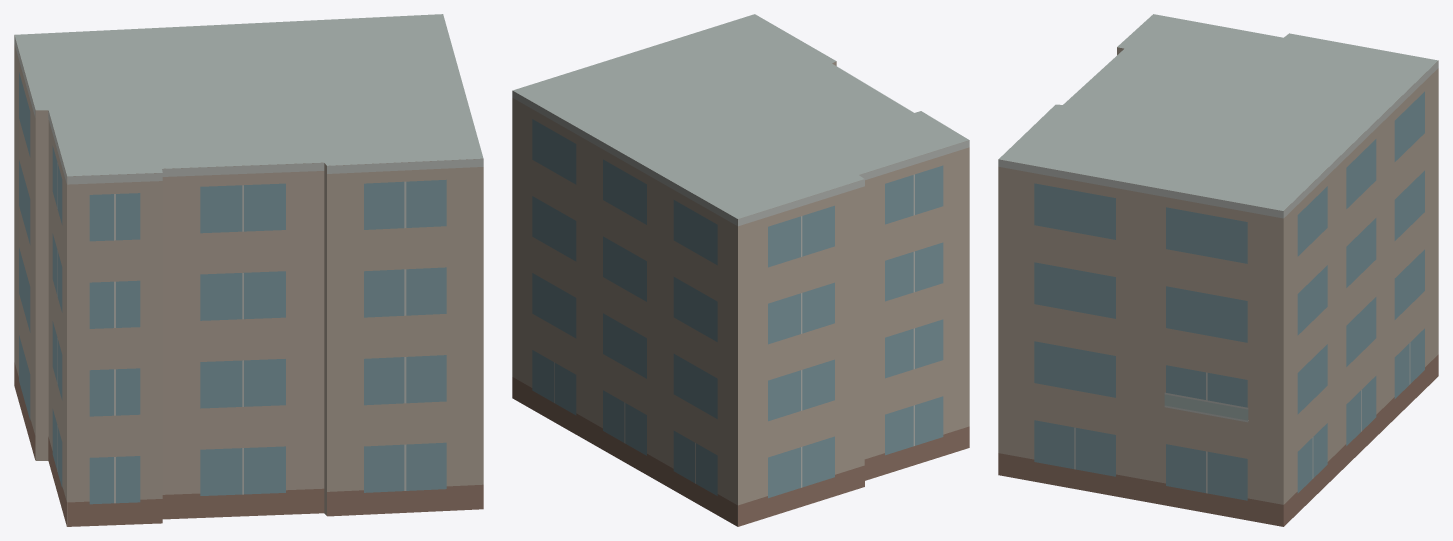
Rendered from survey-upis-32933355.glb.
The picture shows the model from 3 angles, left to right: view 1: azimuth 30°, elevation 25°; view 2: azimuth 150°, elevation 25°; view 3: azimuth 270°, elevation 25°; orthographic projection. The views are drawn at different scales.
Visible parts, largest first — view 1: survey-upis-32933355.tmp; view 2: survey-upis-32933355.tmp; view 3: survey-upis-32933355.tmp.
Part boxes in pixels (box(x1,y1,x2,y2)): survey-upis-32933355.tmp: box(14, 14, 483, 526); survey-upis-32933355.tmp: box(512, 14, 969, 526); survey-upis-32933355.tmp: box(998, 14, 1438, 526).
Size of the model in its own units: 13.93 by 10.4 by 13.15.
